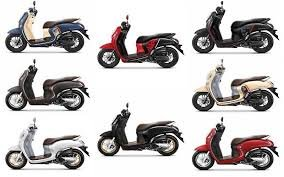motor: (3, 117, 90, 170), (192, 118, 279, 171), (1, 1, 86, 55), (97, 105, 185, 157), (193, 4, 280, 55), (193, 62, 280, 112), (98, 21, 185, 70), (3, 62, 89, 111)
